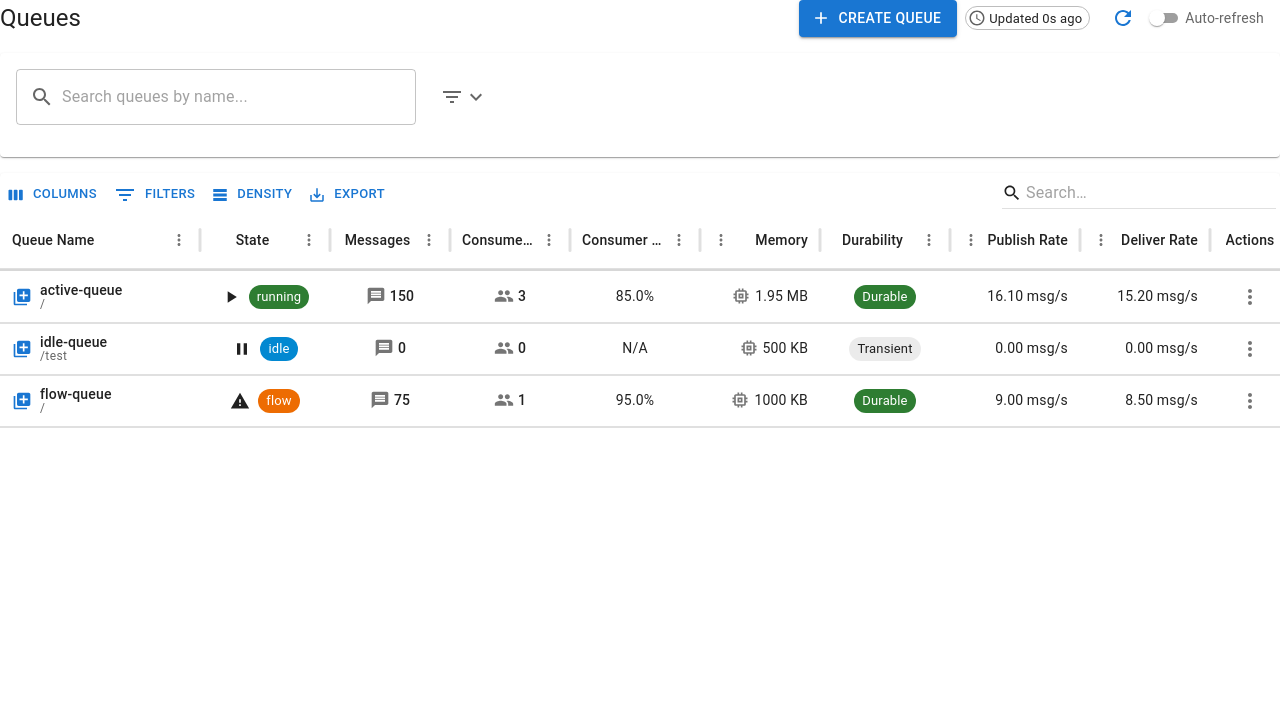
Test: QueuesList › closes modal when close button is clicked
Expected: the text "active-queue" is shown, 40,282 -> 122,298
Click the text "active-queue" at (640, 296), box 0,270 -> 1279,322
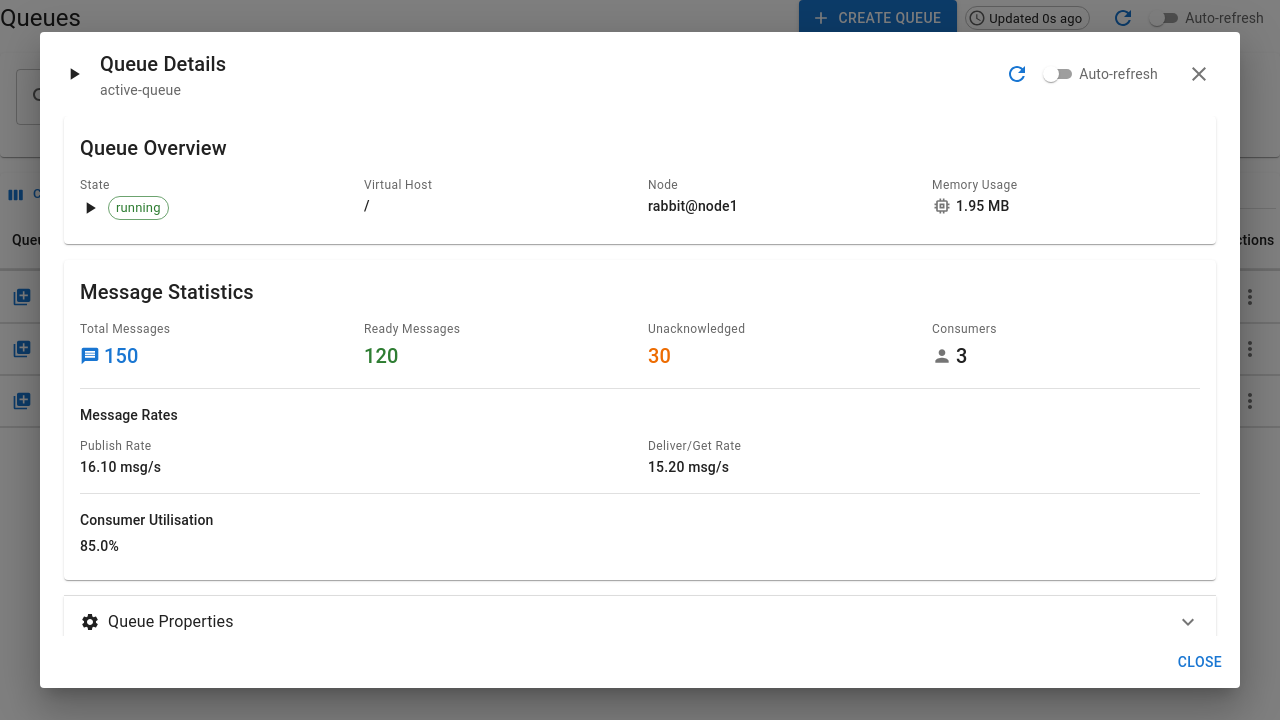
Expected: the text "Queue Details" is shown, 100,48 -> 226,80
Note: Click close button
Click the button "Close" at (1200, 662), box 1168,644 -> 1232,680
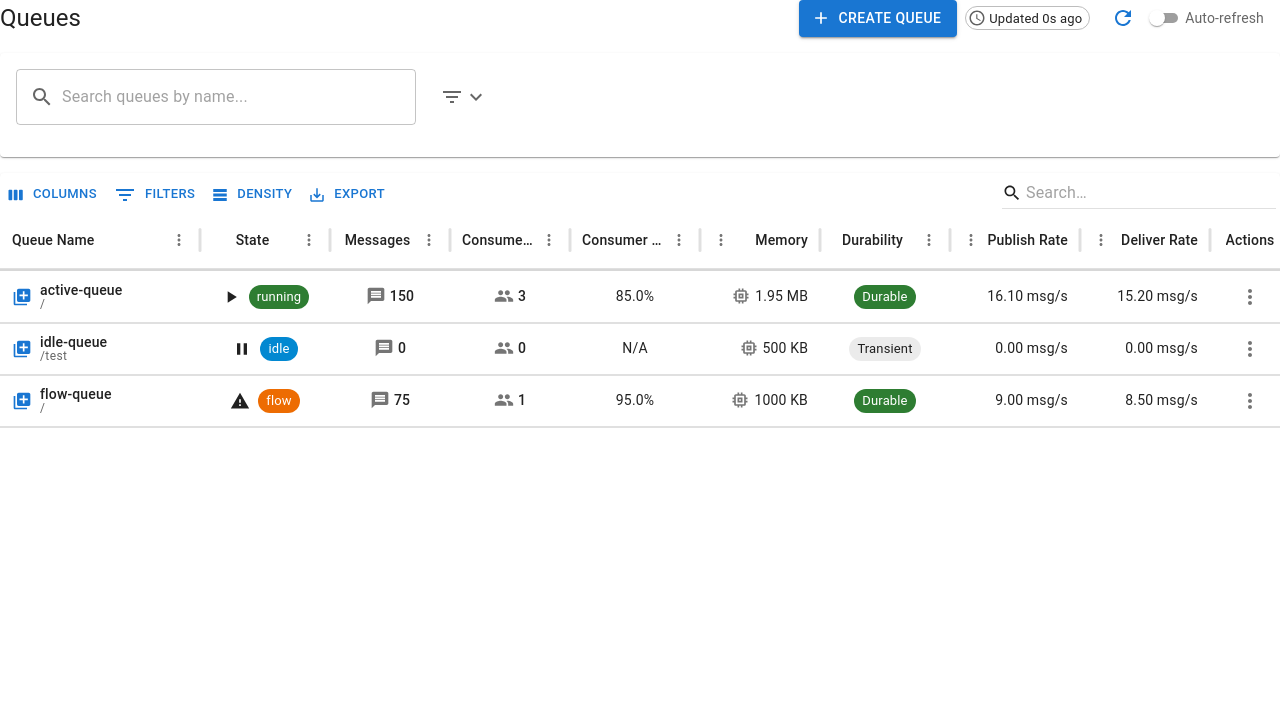
Expected: the text "Queue Details" is gone
